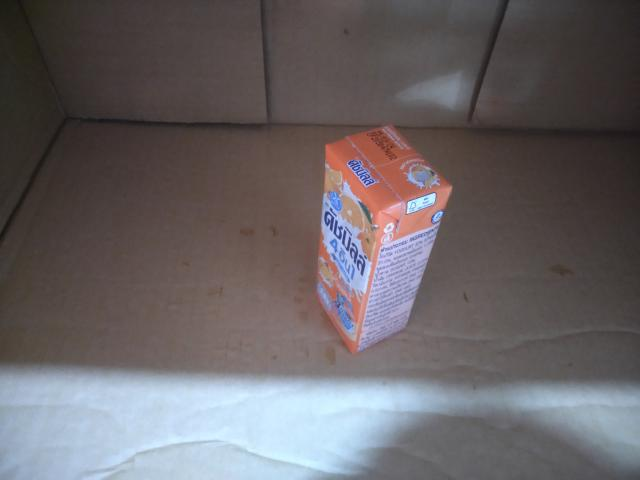drink_box: (289, 112, 457, 367)
